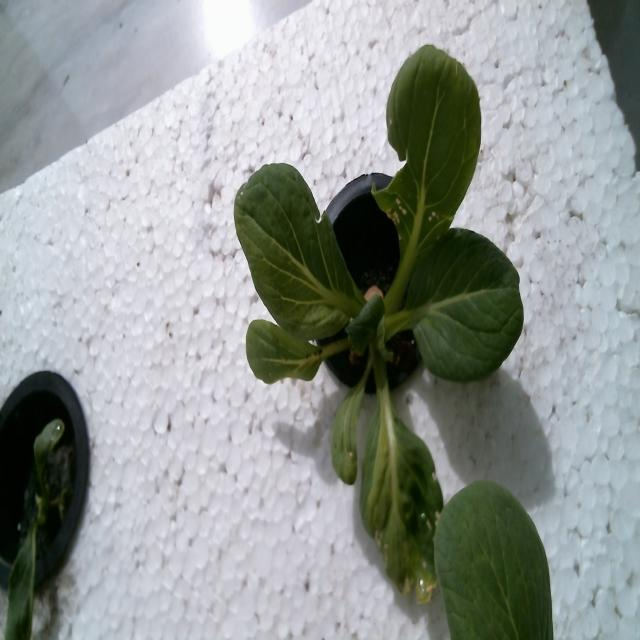pakcoy_tidak_sehat: (219, 44, 541, 615)
